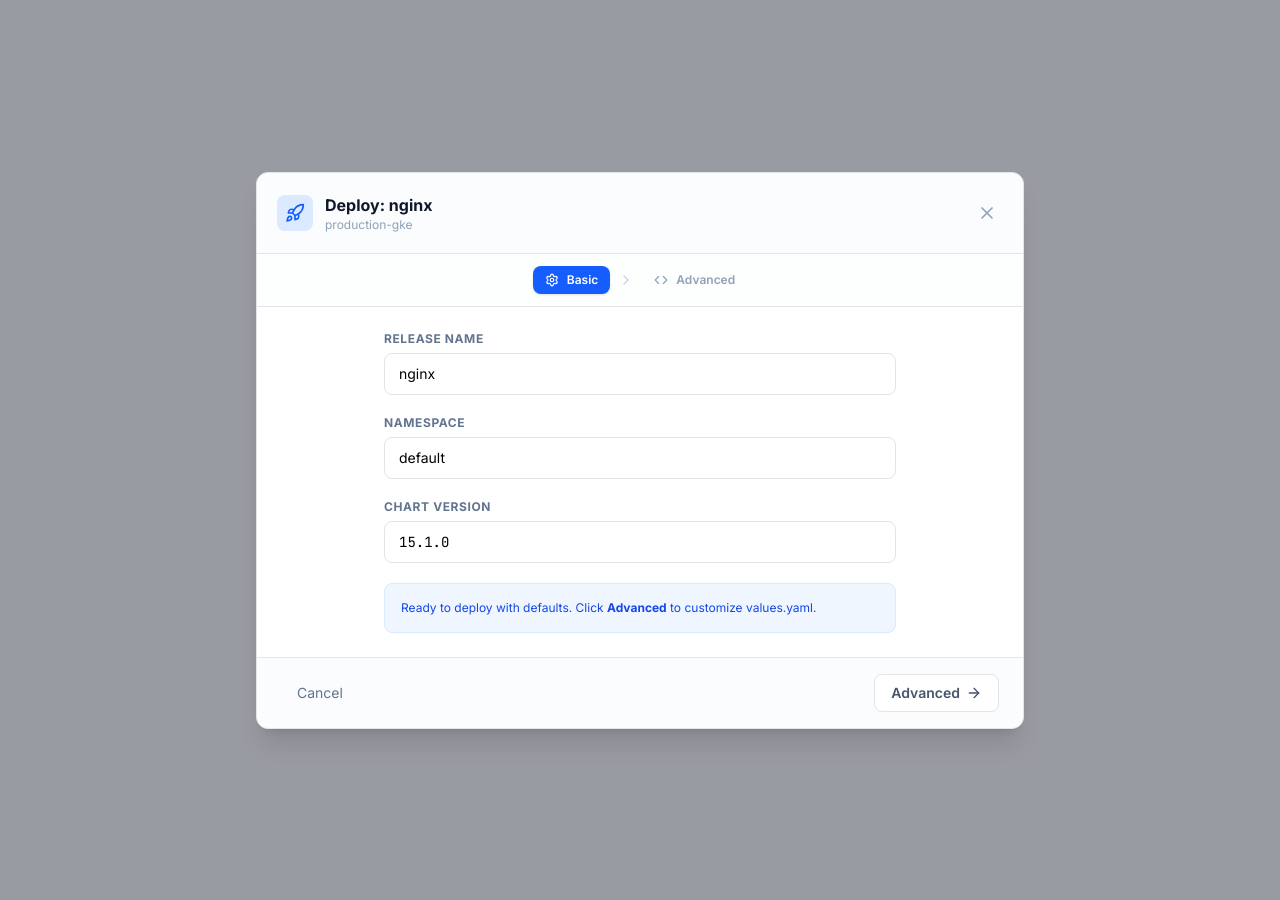
Test: InstallChartModal › clicking Advanced step indicator switches to Advanced step
// The step nav bar is the flex container with step indicator buttons
Click the 1st button "Advanced": (695, 280) [642,266,747,294]
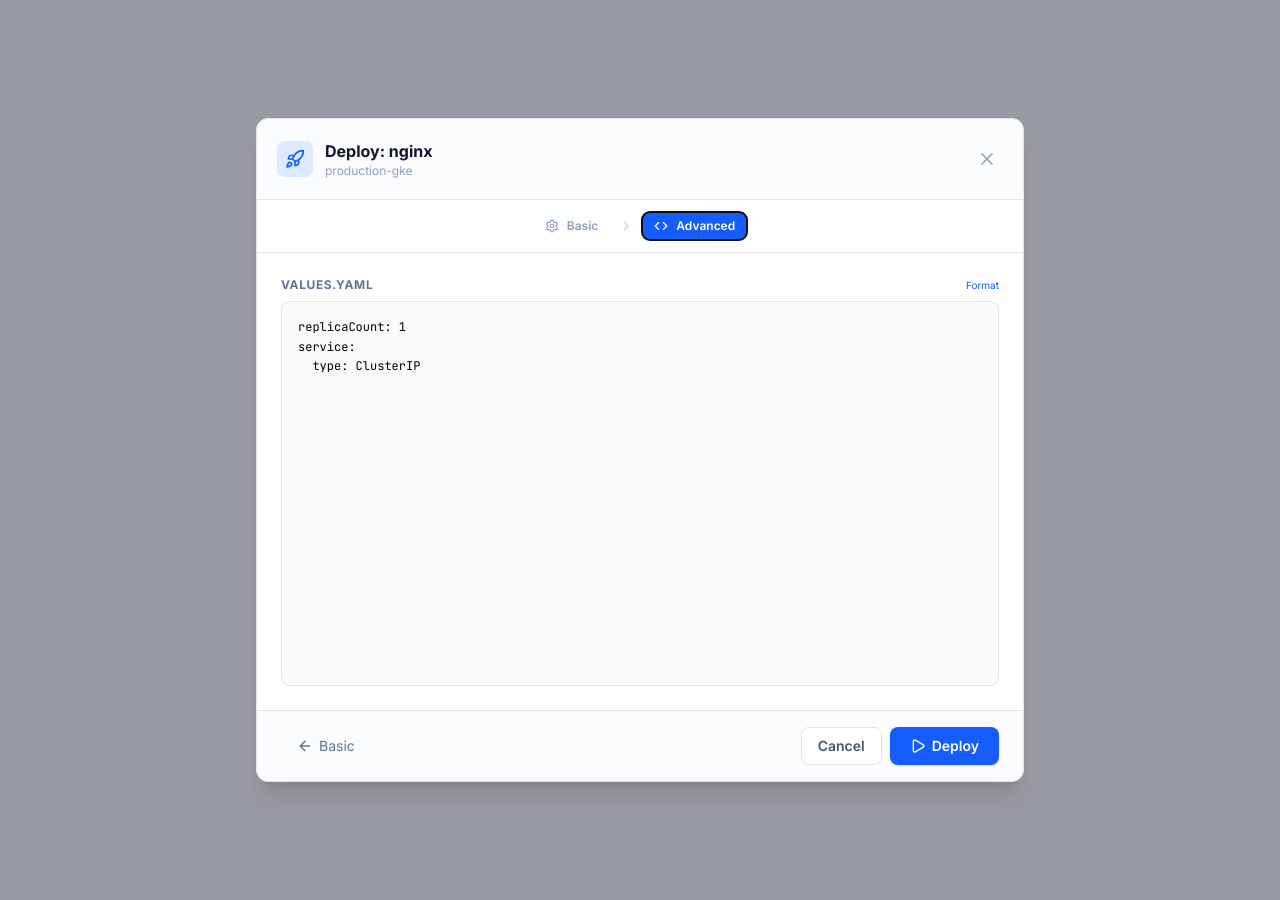
Now the text "values.yaml" is shown, box [281,277,373,293]
